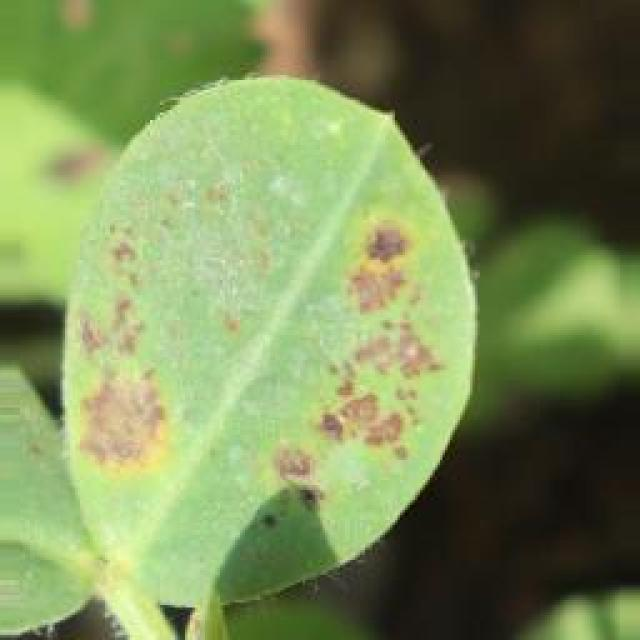Yellowish: (11, 103, 498, 562)
